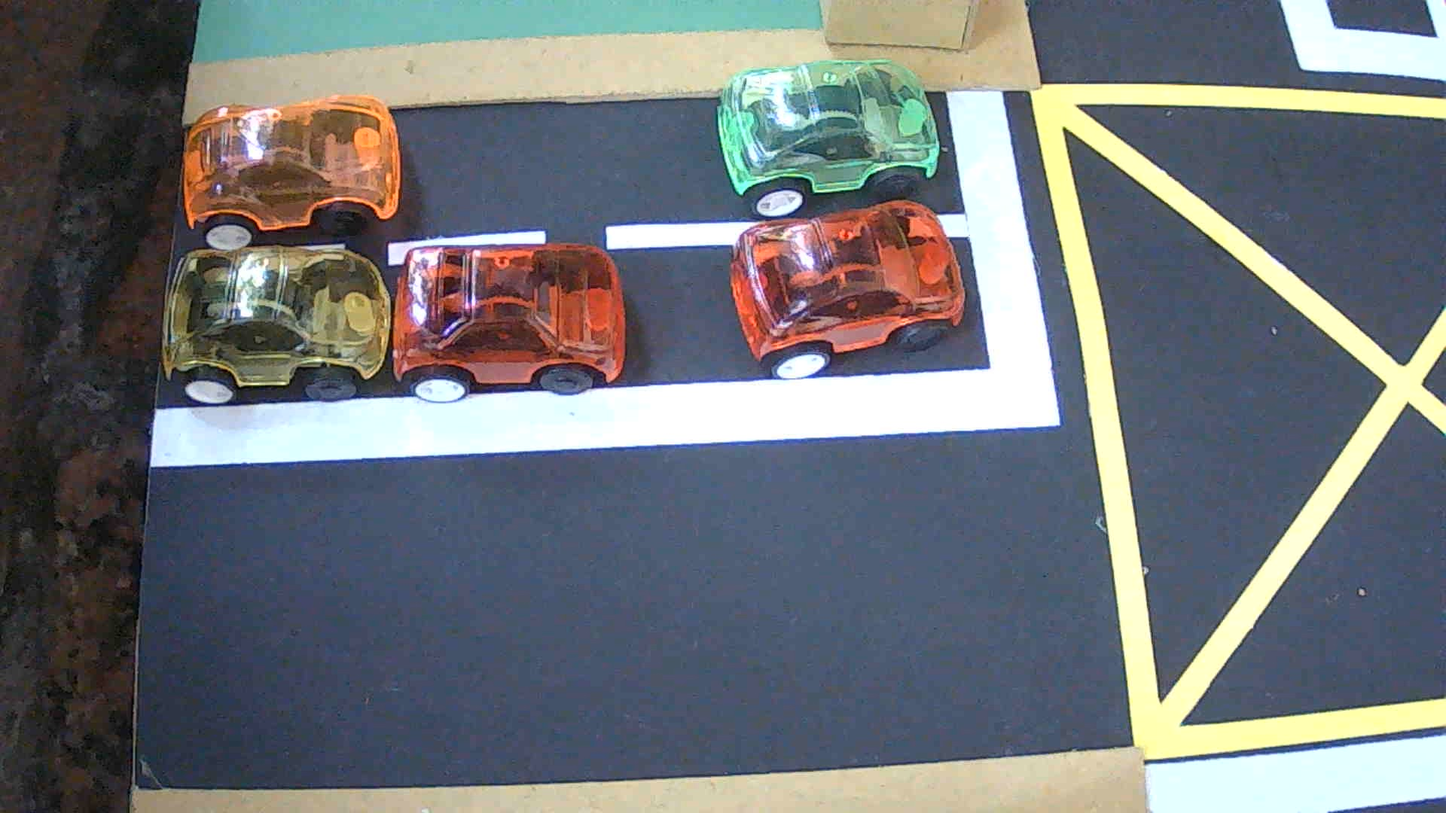Mobil hijau: (715, 59, 939, 218)
Mobil kuning: (161, 245, 392, 404)
Mobil merah: (731, 200, 966, 379), (393, 243, 626, 401)
Mobil orange: (182, 95, 401, 248)
